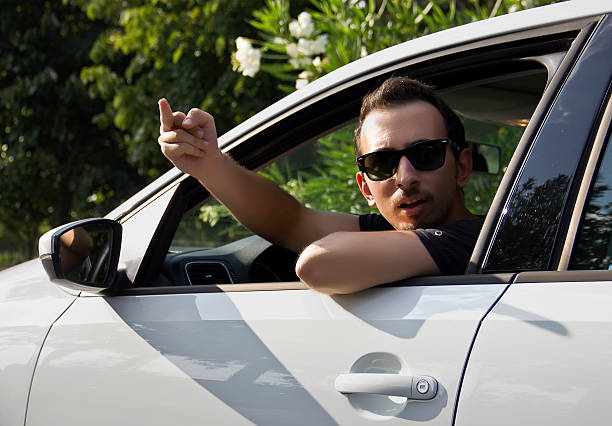insulting_gesture: (152, 98, 223, 183)
